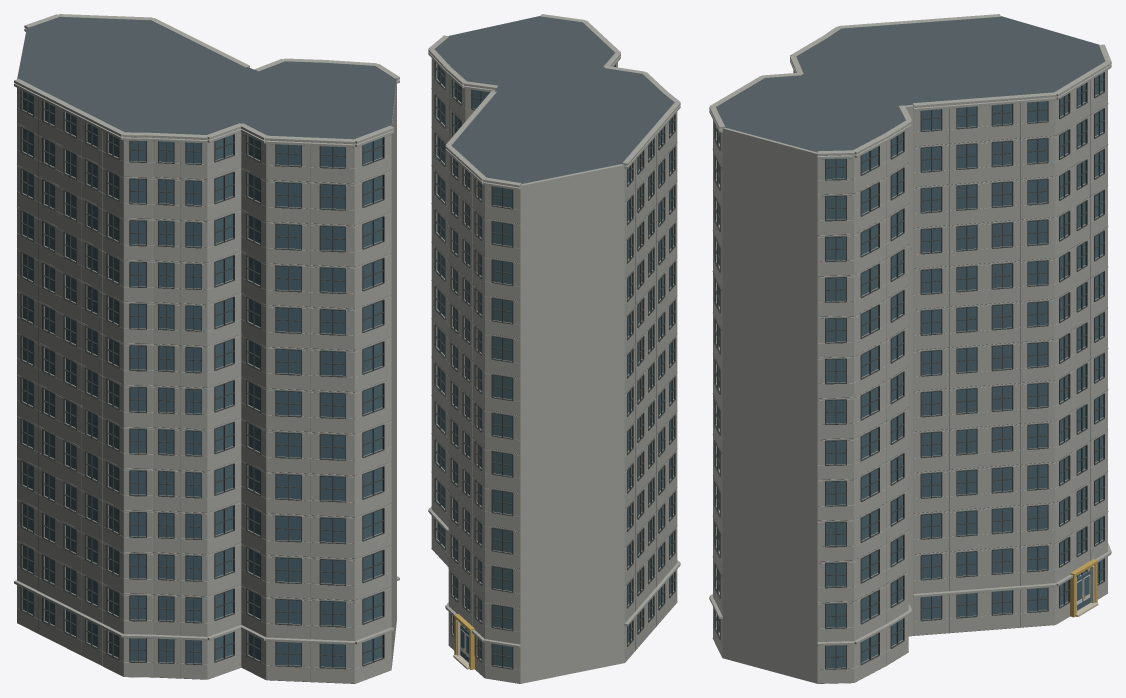
File: pel-exterior-2c1e667b8722.glb
3 renders of one model, left to right at view 1: azimuth 30°, elevation 25°; view 2: azimuth 150°, elevation 25°; view 3: azimuth 270°, elevation 25°, orthographic. The views are drawn at different scales.
Visible parts, largest first — view 1: PEL.001; view 2: PEL.001; view 3: PEL.001.
Boxes of the visible parts, x1,y1,x2,y2 form: PEL.001: (14,14,399,683); PEL.001: (428,14,680,683); PEL.001: (709,14,1111,683).
Size of the model in its own units: 24.89 by 44.15 by 30.27.
